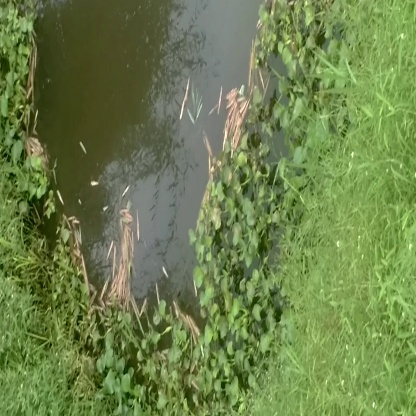leaf: (98, 212, 145, 305)
